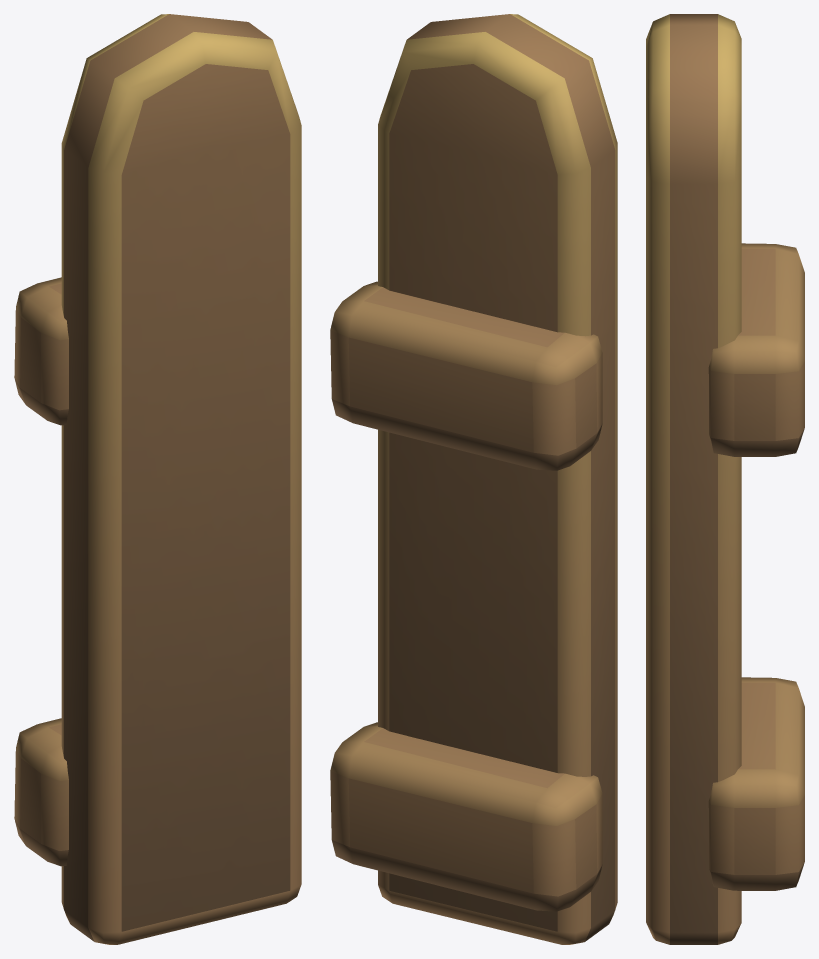
Rendered from fence1_half_LOD_setup.fbx.
3 views of the same model, side by side, from view 1: azimuth 30°, elevation 25°; view 2: azimuth 150°, elevation 25°; view 3: azimuth 270°, elevation 25° (orthographic).
Parts seen in each view (by area): view 1: fence1_half_LOD0; view 2: fence1_half_LOD0; view 3: fence1_half_LOD0.
Boxes of the visible parts, x1,y1,x2,y2 form: fence1_half_LOD0: (14,14,301,944); fence1_half_LOD0: (330,14,617,944); fence1_half_LOD0: (646,14,804,944).
Size of what is drawn, in the model's own units: 56.99 by 202 by 33.19.
